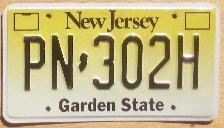0: (119, 31, 144, 91)
2: (148, 33, 173, 90)
3: (91, 33, 116, 91)
H: (174, 32, 201, 91)
N: (49, 32, 76, 91)
P: (21, 34, 48, 93)
